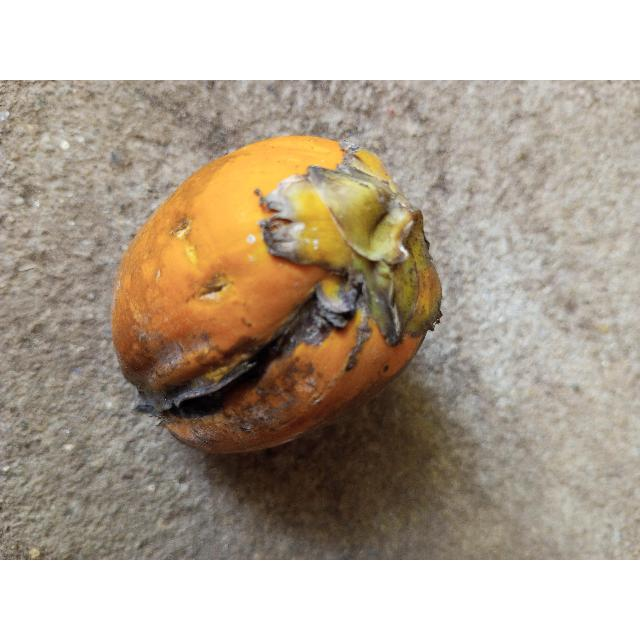damaged: (111, 135, 443, 457)
